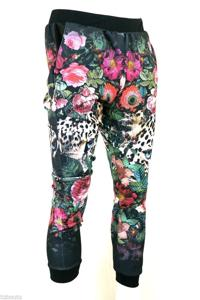C_W_pants: (37, 7, 152, 290)
